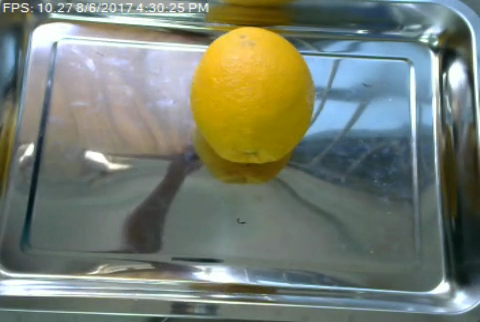Orange: (190, 27, 314, 162)
